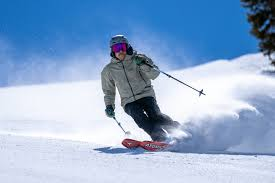skier: (100, 33, 206, 152)
